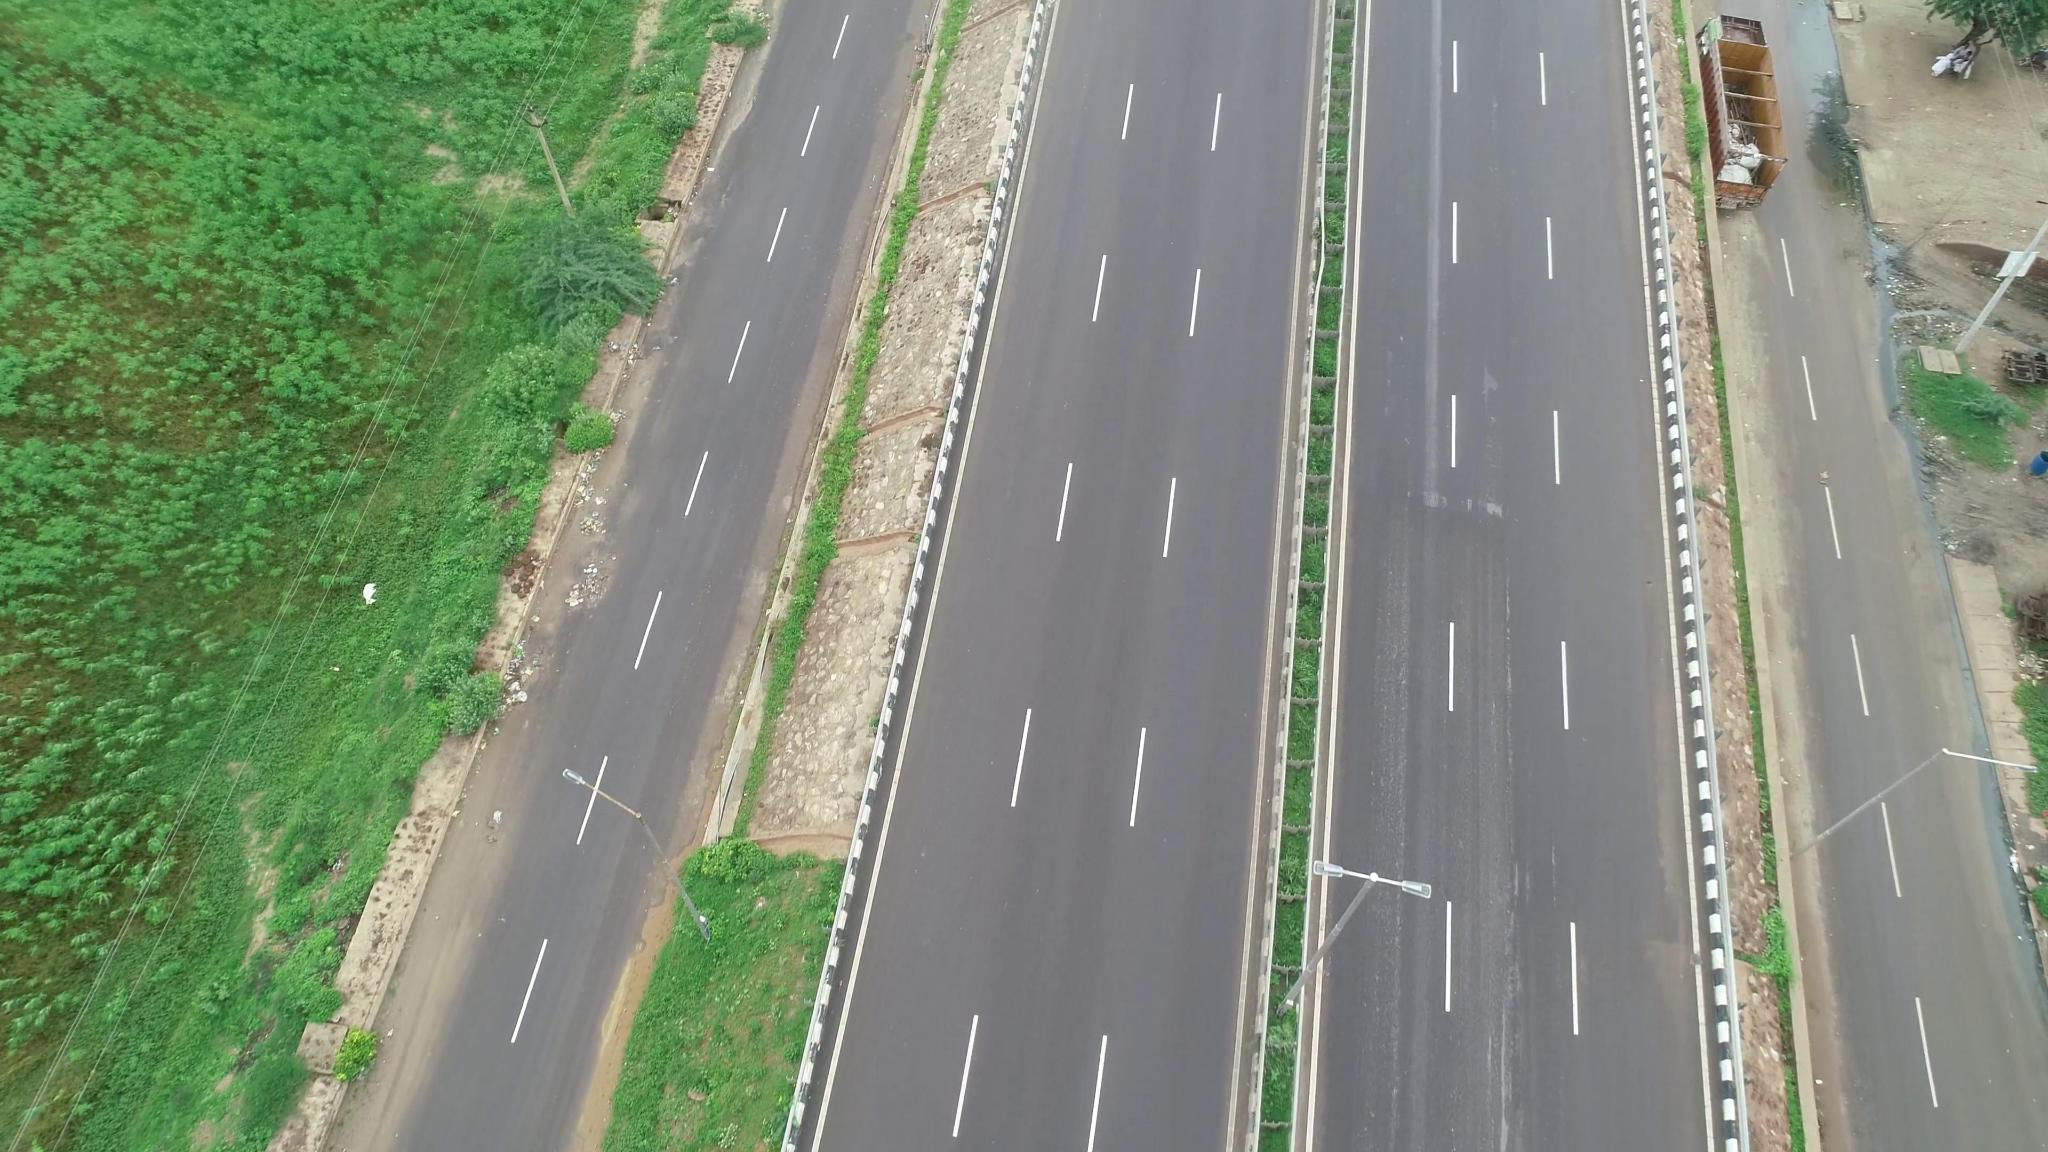Ravelling: (1355, 549, 1440, 1039), (1485, 547, 1539, 798)
